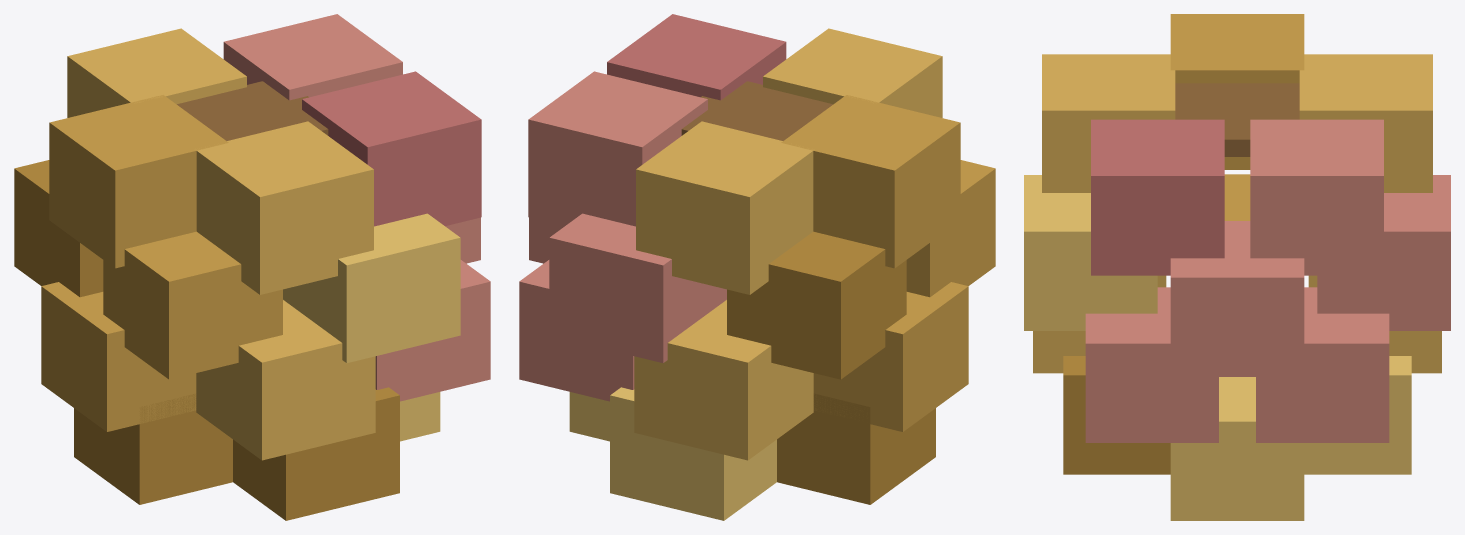
Rendered from RB-04_double_gold.glb.
The picture shows the model from 3 angles, left to right: view 1: azimuth 30°, elevation 25°; view 2: azimuth 150°, elevation 25°; view 3: azimuth 270°, elevation 25°; orthographic projection.
Parts seen in each view (by area): view 1: Double Gold · original workbench cubes; view 2: Double Gold · original workbench cubes; view 3: Double Gold · original workbench cubes.
Boxes of the visible parts, box(x1,y1,x2,y2) form: Double Gold · original workbench cubes: box(14, 14, 490, 520); Double Gold · original workbench cubes: box(519, 14, 995, 520); Double Gold · original workbench cubes: box(1024, 14, 1450, 520).
Size of the model in its own units: 0.0994 by 0.0864 by 0.0967.
